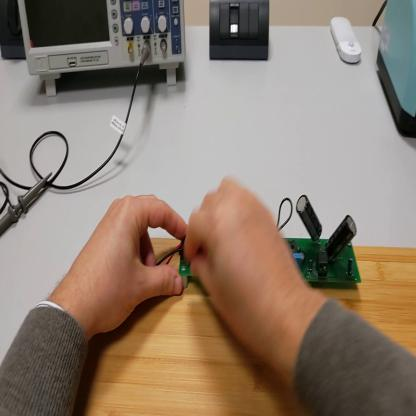hand: (186, 179, 299, 360), (74, 193, 187, 335)
high voltage board: (153, 190, 362, 288)
oscilloscope: (18, 4, 188, 97)
oscilloscope probe tip: (1, 171, 53, 241)
socket: (1, 2, 27, 62)
welder station: (378, 3, 416, 139)
working area: (74, 236, 416, 416)
